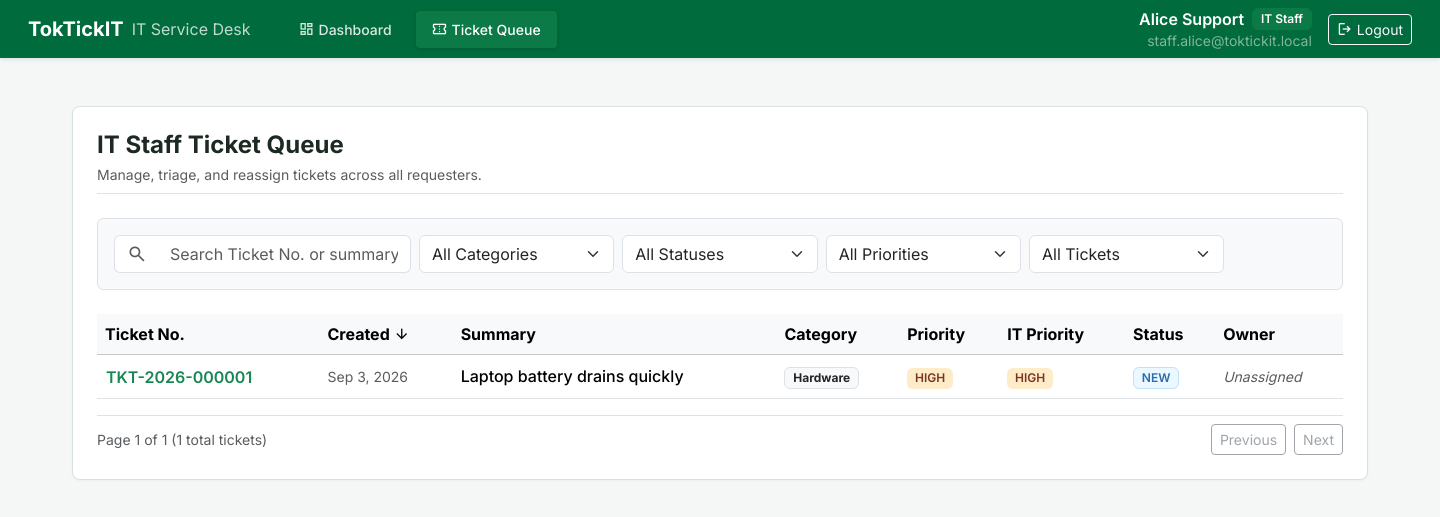
Lab 3 Staff Ticket Queue & Role Navigation Suite (client/tests/lab-03/StaffTicketQueue.test.tsx) › UI-04: Staff Ticket Queue Screen › Clear Filters resets all search and filter dropdowns (UI-04)
Expected: the button "TKT-2026-000001" is shown, [105,364,253,390]
Step 1. Type "network" into the field named "Search tickets" → (284, 254), box [158,235,411,273]
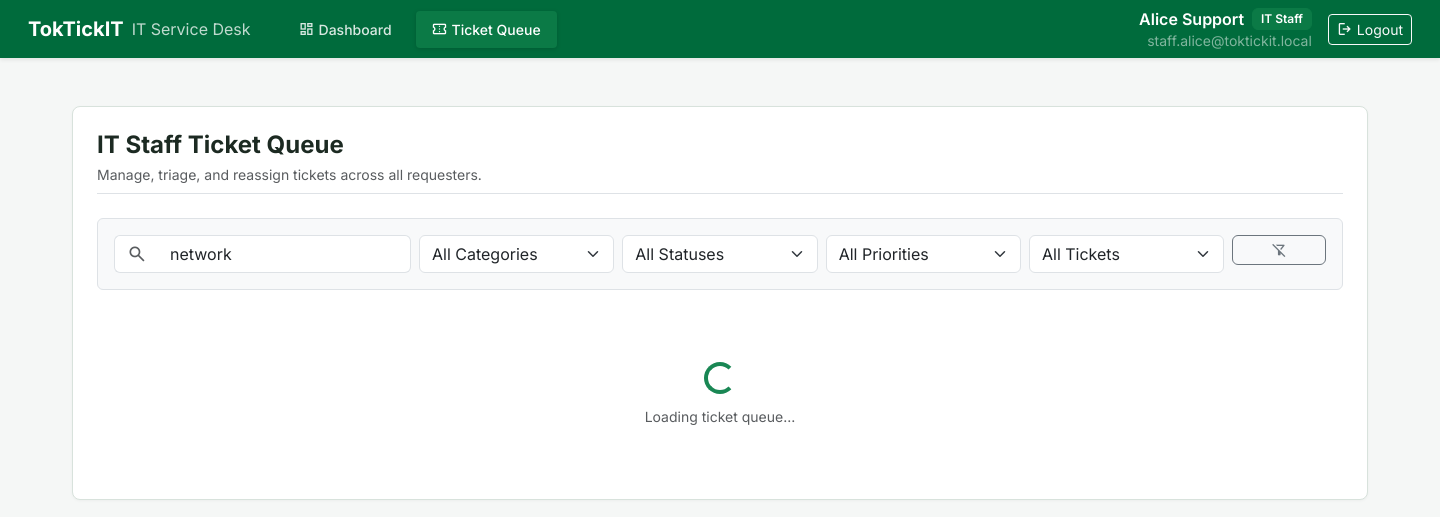
Expected: the button named "Clear Filters" is enabled
Step 2. Click the button named "Clear Filters" → (1279, 250), box [1232,235,1326,265]
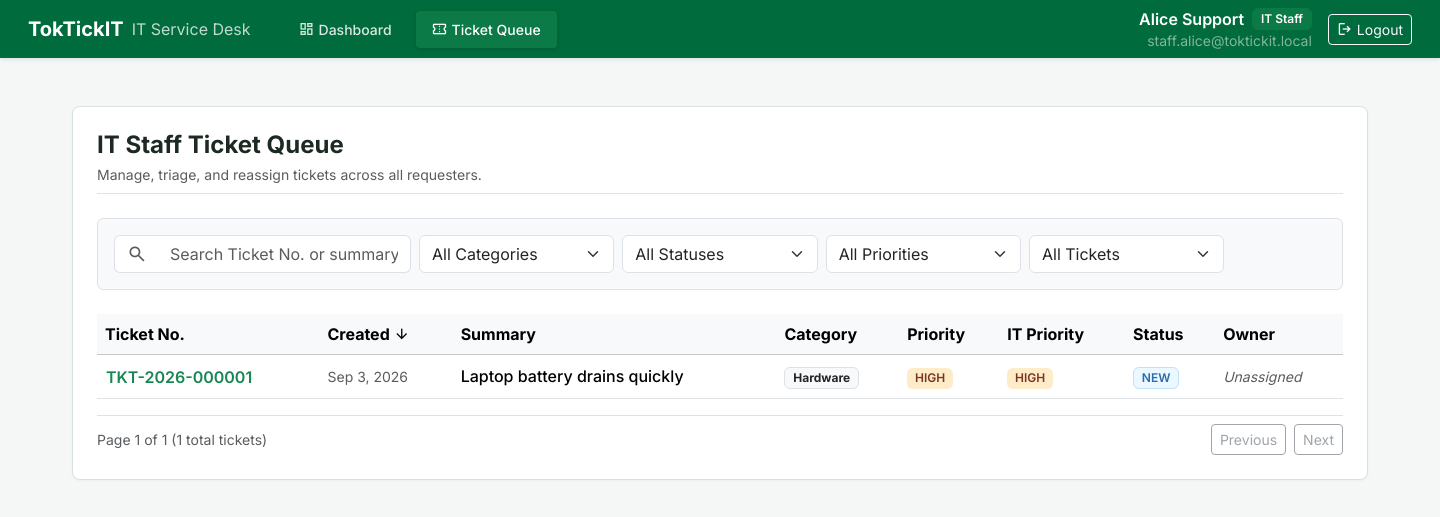
Expected: the field named "Search tickets" is empty, [158,235,411,273]
